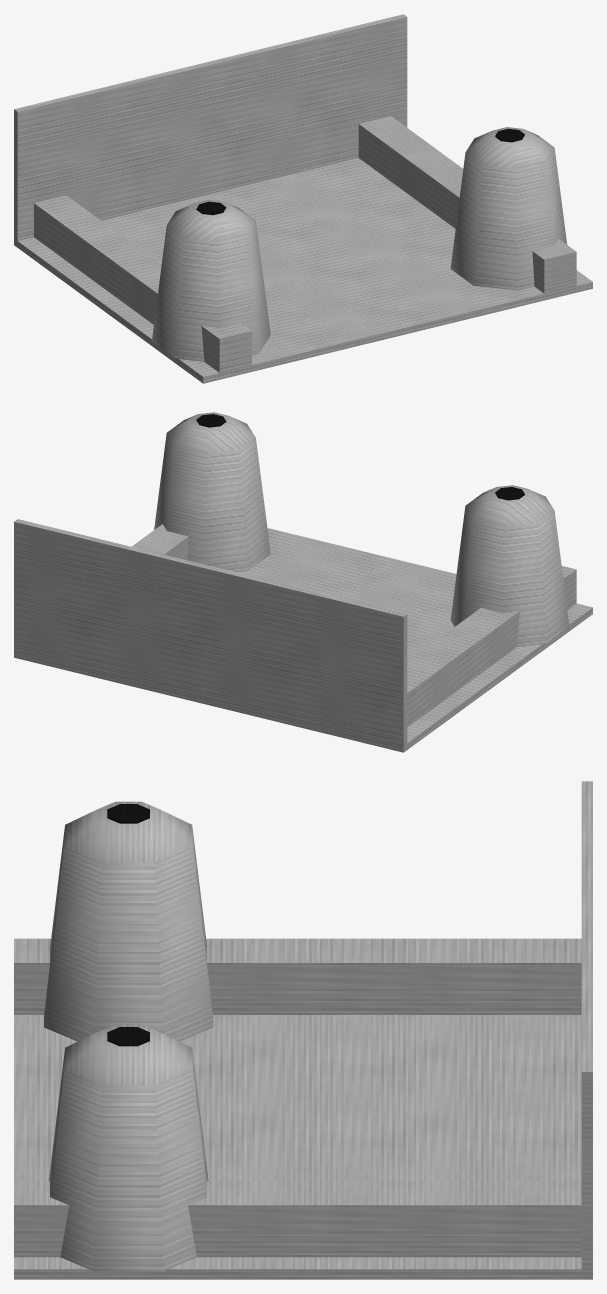
The model's file is carroceria_comp_fabrica.glb.
The picture shows the model from 3 angles, top to bottom: view 1: azimuth 30°, elevation 25°; view 2: azimuth 150°, elevation 25°; view 3: azimuth 270°, elevation 25°; orthographic projection. The views are drawn at different scales.
Parts seen in each view (by area): view 1: carroceria_comp_fabrica; view 2: carroceria_comp_fabrica; view 3: carroceria_comp_fabrica.
Part boxes in pixels (x1,y1,x2,y2): carroceria_comp_fabrica: [14, 14, 592, 383]; carroceria_comp_fabrica: [14, 412, 592, 752]; carroceria_comp_fabrica: [14, 781, 592, 1279].
Bounding box in the file's own units: 1.22 × 0.404 × 1.01.
1 material, 1 textured.
